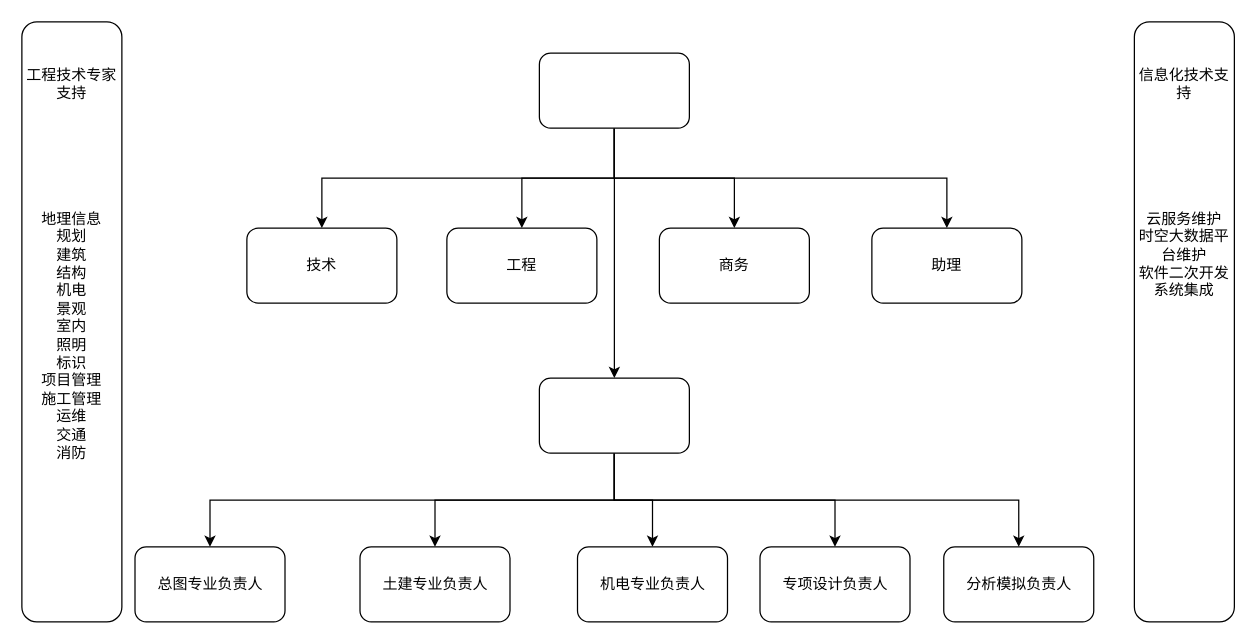
Image size: 1256x644. Some labels were removed from this diagram. Each missing label, with the centre of its shape:
"BIM服务实施负责人" belongs at point (613, 415).
"项目总负责人" belongs at point (613, 90).
